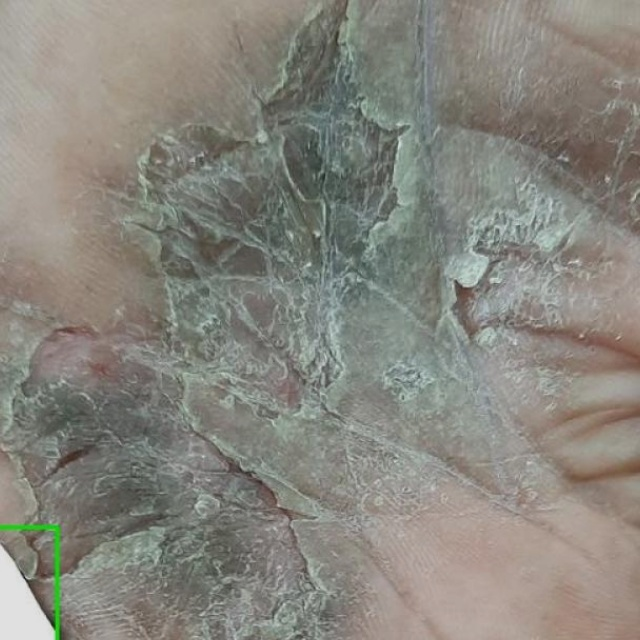Contact Dermatitis: (0, 527, 57, 639)
